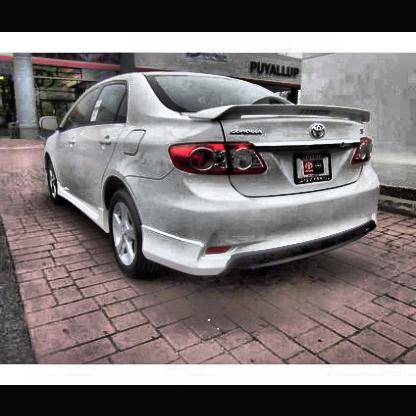Toyota Corolla Sedan 2012: (40, 70, 385, 281)
